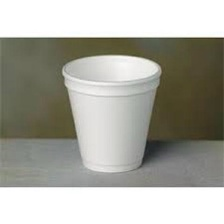paper_cup: (55, 49, 167, 176)
